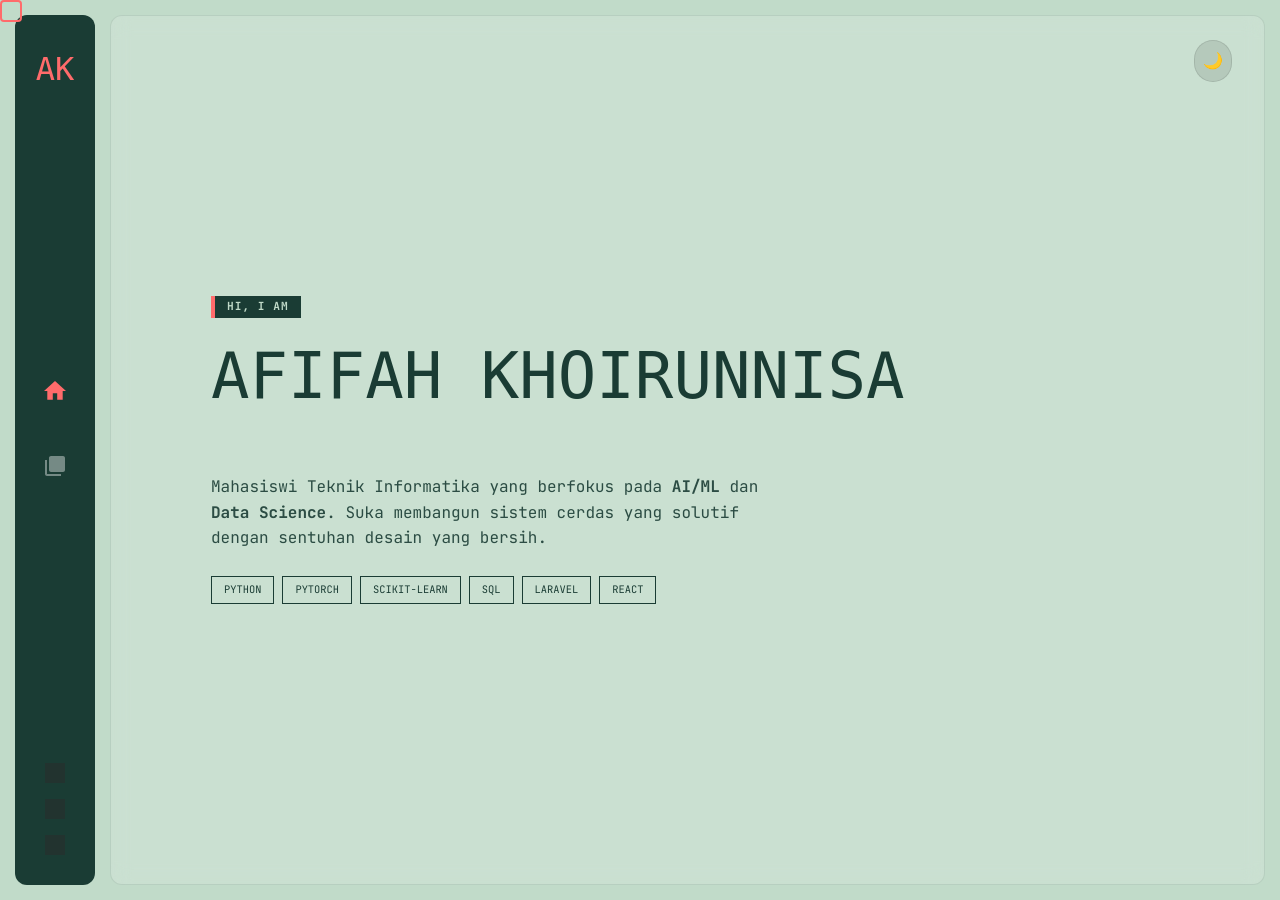
it: Portfolio Component › tombol toggle theme harus mengganti mode
The image size is (1280, 900).
Click the button "🌙": coordinates (1213, 61) [1194,40,1232,82]
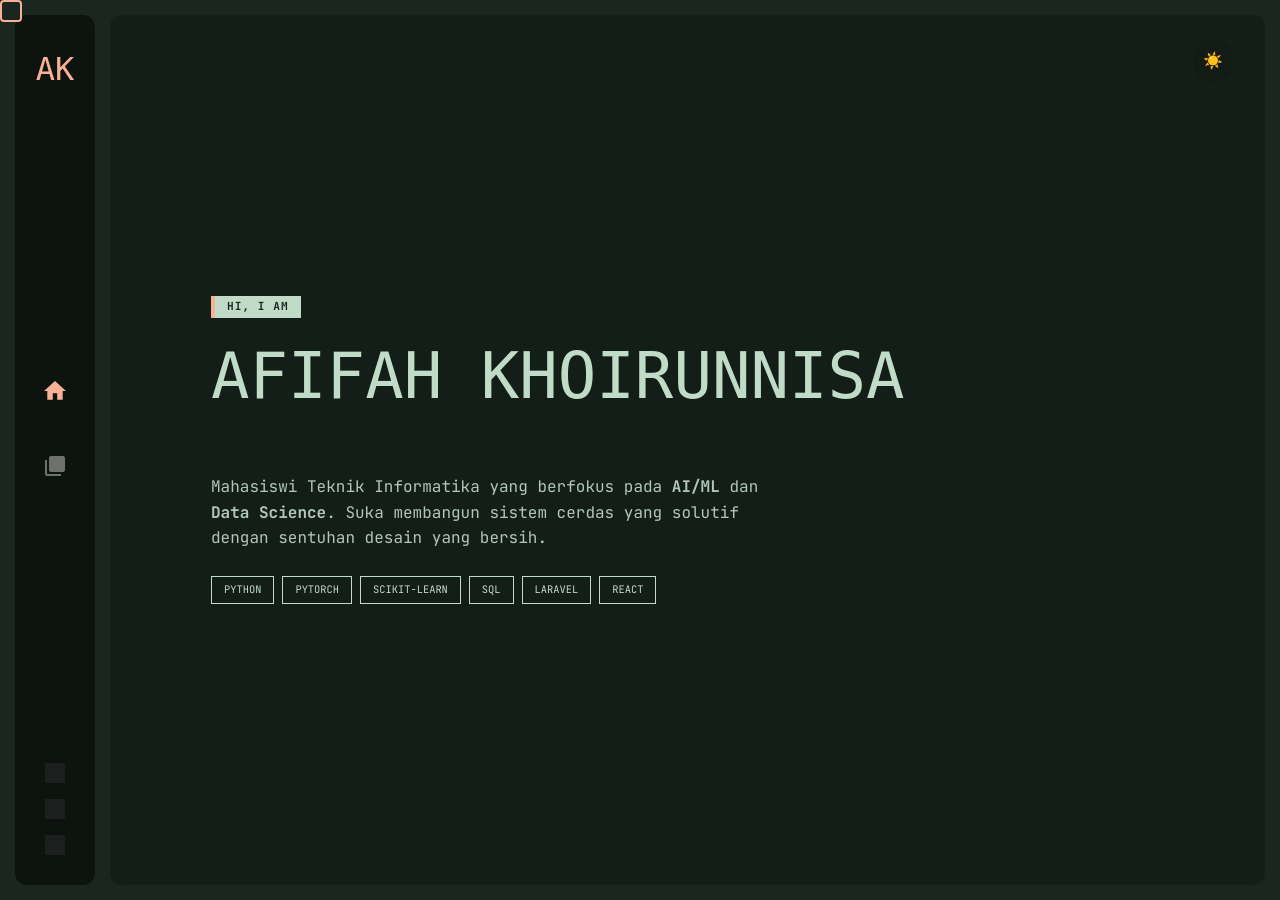
Now the button "☀️" is shown, box [1194,40,1232,82]
